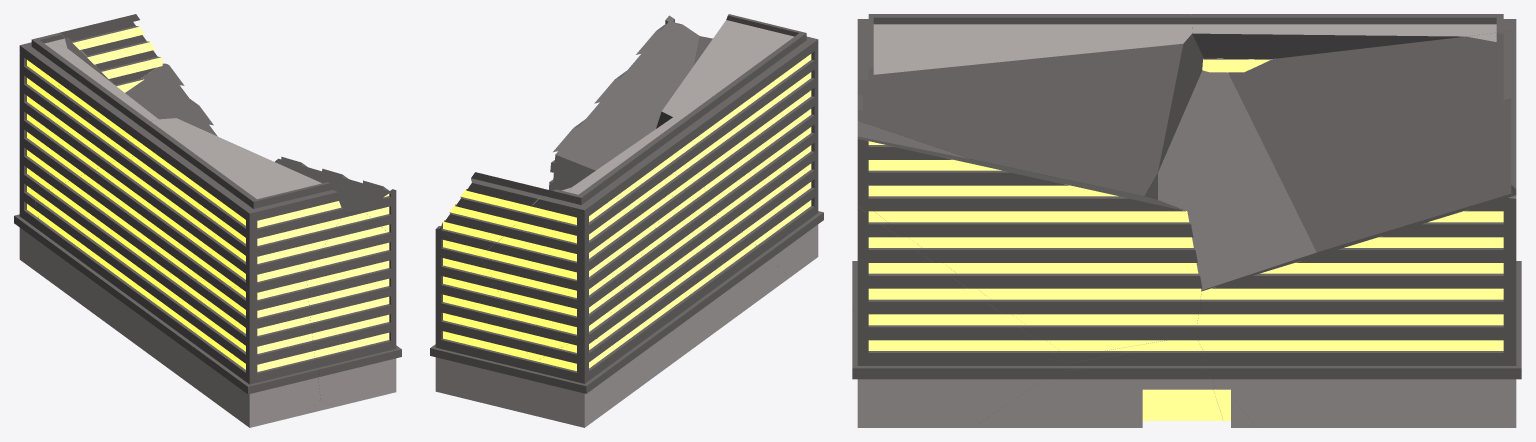
The model's file is fractured_building3.glb.
The picture shows the model from 3 angles, left to right: view 1: azimuth 30°, elevation 25°; view 2: azimuth 150°, elevation 25°; view 3: azimuth 270°, elevation 25°; orthographic projection. The views are drawn at different scales.
Visible parts, largest first — view 1: Cube_cell.001, Cube_cell.009, Cube_cell.010, Cube_cell.006, Cube_cell.005, Cube_cell, Cube_cell.012, Cube_cell.011, Cube_cell.002, Cube_cell.007, Cube_cell.008; view 2: Cube_cell.001, Cube_cell.005, Cube_cell.010, Cube_cell.007, Cube_cell.002, Cube_cell.009, Cube_cell.008, Cube_cell, Cube_cell.011, Cube_cell.012; view 3: Cube_cell.007, Cube_cell.001, Cube_cell.002, Cube_cell.005, Cube_cell.006, Cube_cell.010, Cube_cell.012, Cube_cell, Cube_cell.011, Cube_cell.004.
Part boxes in pixels (box(x1,y1,x2,y2)): Cube_cell.001: box(128, 118, 345, 291); Cube_cell.009: box(169, 274, 320, 427); Cube_cell.010: box(32, 156, 160, 349); Cube_cell.006: box(306, 210, 401, 407); Cube_cell.005: box(19, 32, 132, 194); Cube_cell: box(19, 33, 158, 151); Cube_cell.012: box(142, 265, 333, 413); Cube_cell.011: box(60, 14, 162, 92); Cube_cell.002: box(275, 156, 396, 236); Cube_cell.007: box(125, 63, 217, 136); Cube_cell.008: box(14, 167, 38, 270); Cube_cell.001: box(656, 14, 818, 226); Cube_cell.005: box(481, 173, 686, 362); Cube_cell.010: box(597, 163, 723, 415); Cube_cell.007: box(430, 225, 530, 410); Cube_cell.002: box(548, 15, 699, 190); Cube_cell.009: box(732, 119, 823, 277); Cube_cell.008: box(513, 334, 604, 427); Cube_cell: box(555, 115, 698, 217); Cube_cell.011: box(439, 172, 551, 256); Cube_cell.012: box(709, 222, 789, 335); Cube_cell.007: box(1196, 194, 1521, 427); Cube_cell.001: box(857, 14, 1203, 195); Cube_cell.002: box(857, 136, 1202, 363); Cube_cell.005: box(1228, 30, 1516, 252); Cube_cell.006: box(852, 121, 1067, 427); Cube_cell.010: box(1144, 70, 1316, 427); Cube_cell.012: box(973, 340, 1223, 427); Cube_cell: box(1191, 14, 1516, 59); Cube_cell.011: box(1503, 48, 1516, 194); Cube_cell.004: box(1202, 58, 1270, 72).
Size of the model in its own units: 5.15 by 7.08 by 13.56.
